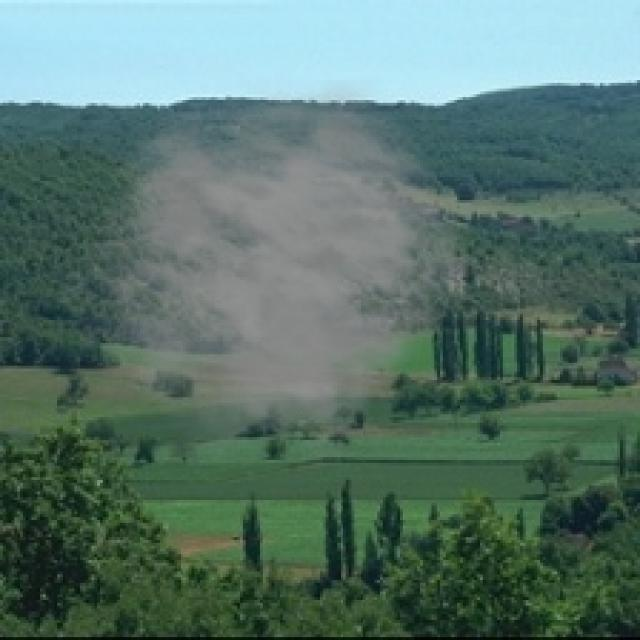smoke: (54, 80, 472, 466)
